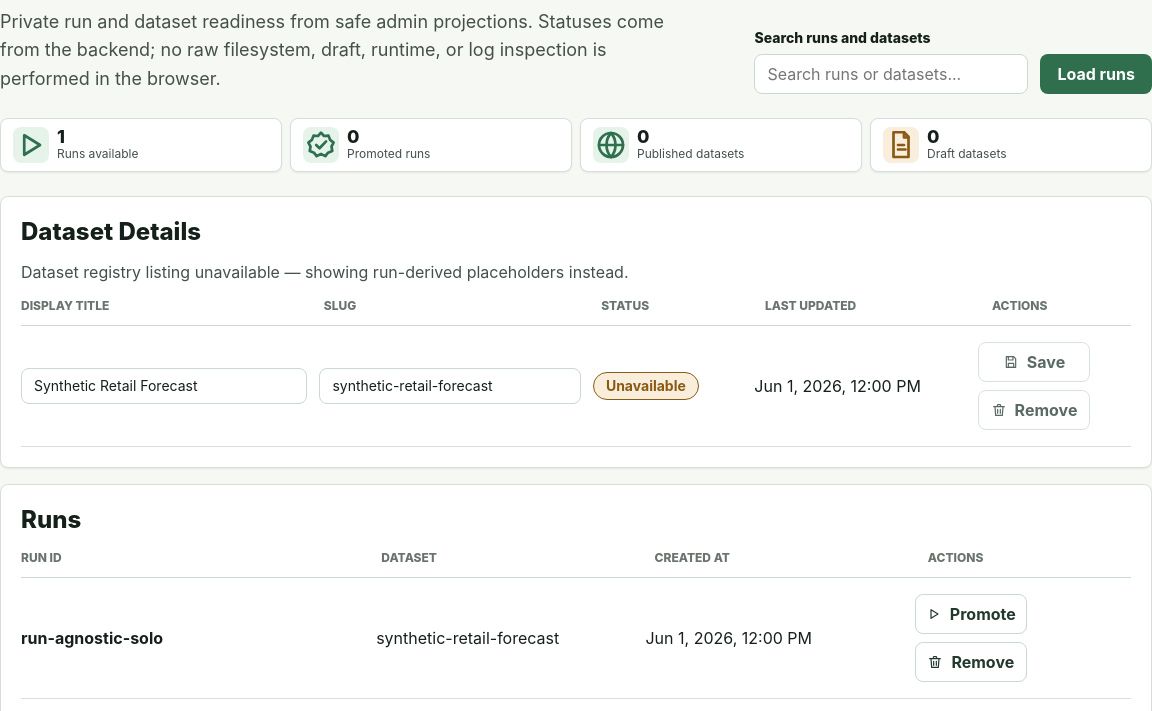
DashboardPage › Runs row removal › removes the row from the Dashboard after a successful confirmed removal
This screenshot has width=1152, height=711.
(page scrolled)
expect the button "Load runs" is shown: met, box [1040,54,1151,94]
Click the button "Remove" in the row of "synthetic-retail-forecast": [971, 662] box [915,642,1027,682]
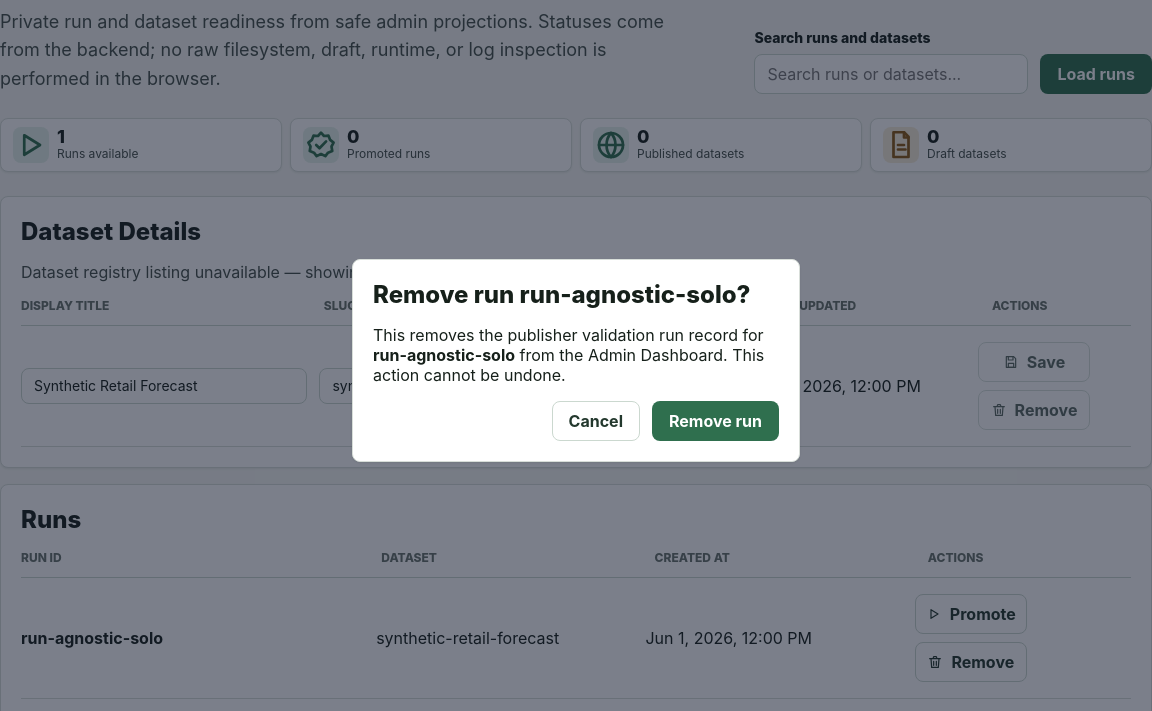
Click the button "Remove run": [716, 420] box [652,400,779,440]
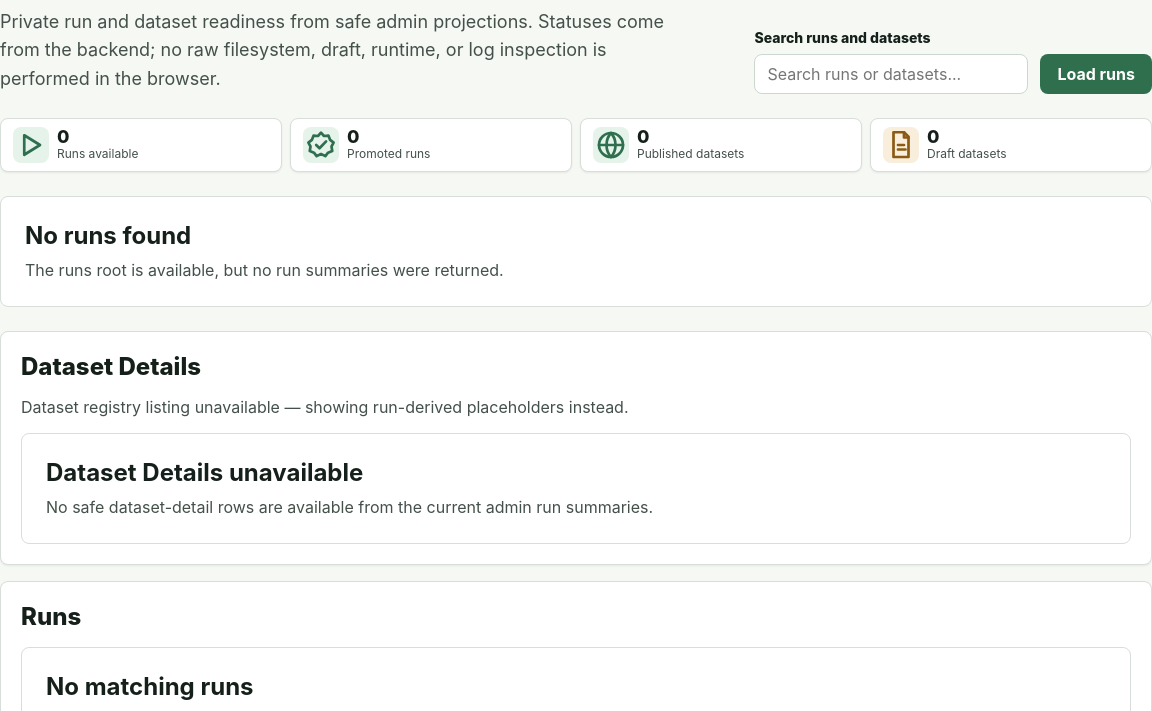
expect the heading "No runs found" is shown: met, box [25,221,191,250]
expect the dialog is gone: met
expect the text "run-agnostic-solo" is gone: met
